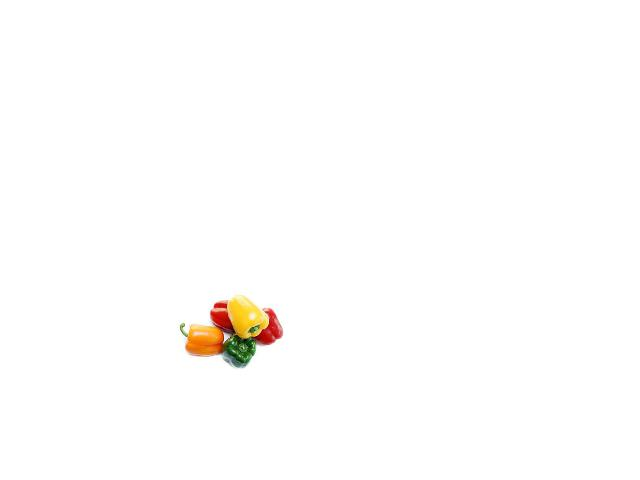bell_pepper: (220, 325, 264, 373)
